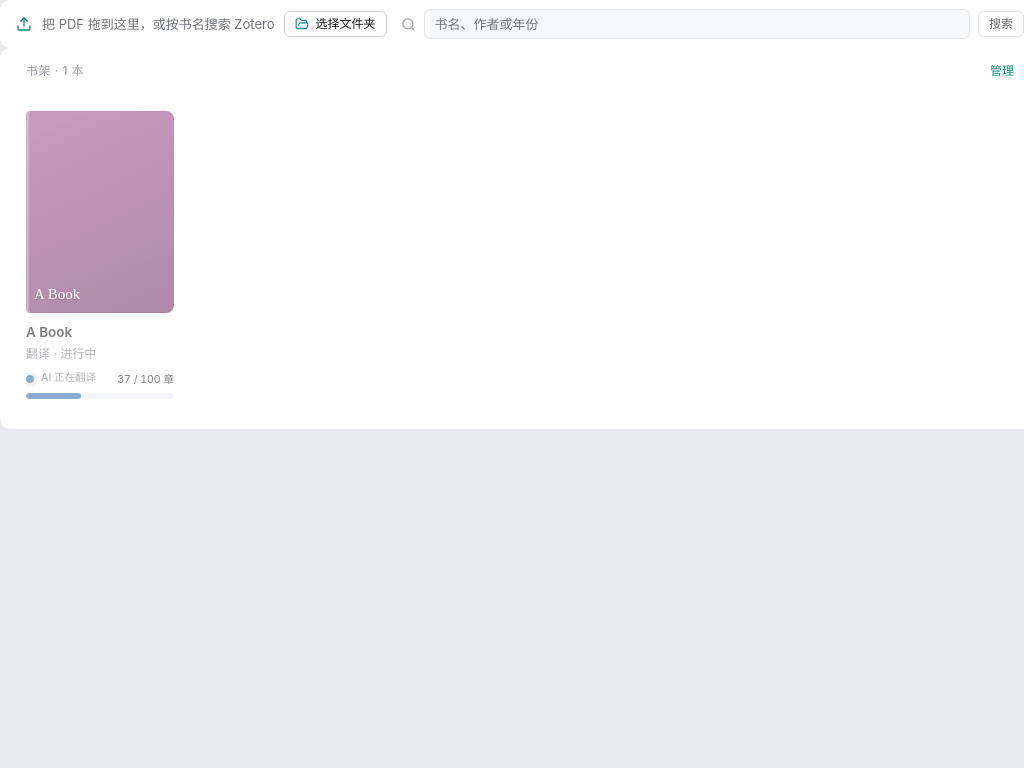
PipelineWorkbench split view › shows live AI work with a real chapter progress bar
Expected: the text "37 / 100 章" is shown, [117,372,174,388]
Click the button "A Book A Book 翻译 · 进行中 AI 正在翻译 37 / 100 章".
click(100, 255)  # box [26,111,174,399]
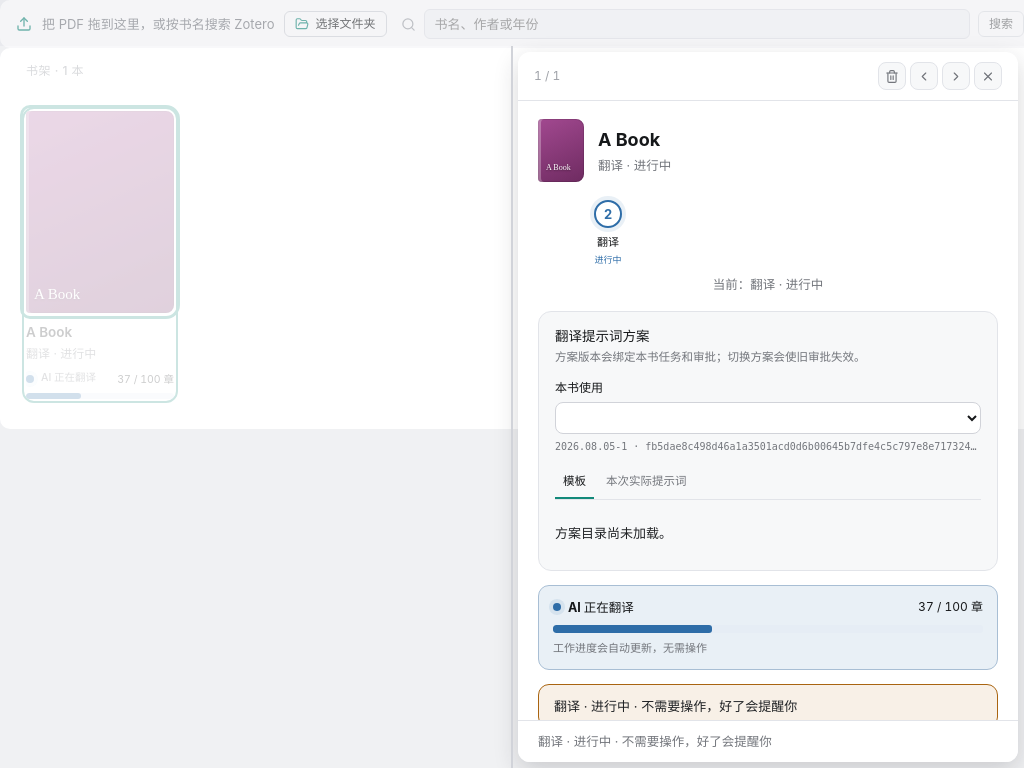
Result: the number of progress indicators named "AI 正在翻译：37 / 100 章" is 2 at [26,393,174,399]; [553,625,983,633]
